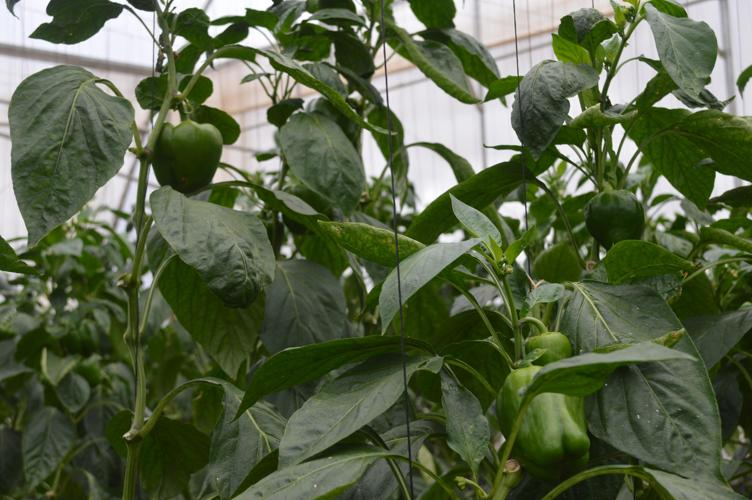BellPepper: (496, 367, 608, 490), (148, 112, 273, 212), (578, 185, 650, 266), (518, 323, 577, 364)
